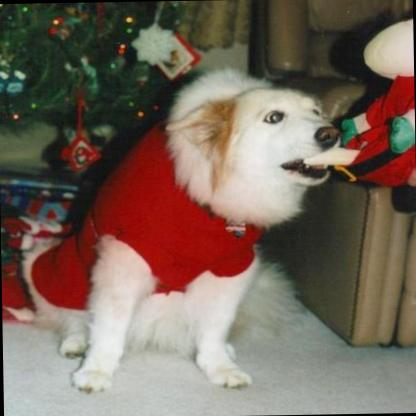collie: (22, 66, 338, 390)
